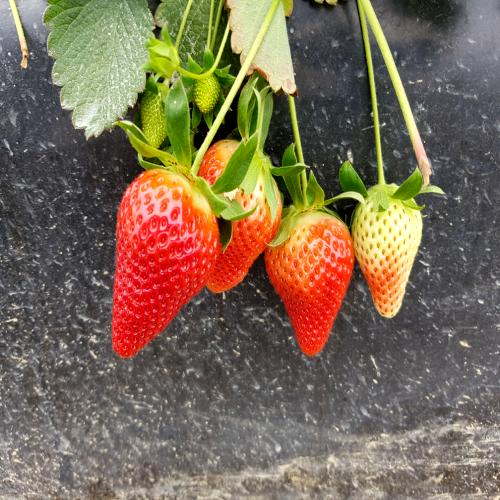ripe: (105, 166, 227, 361), (266, 195, 354, 364)
